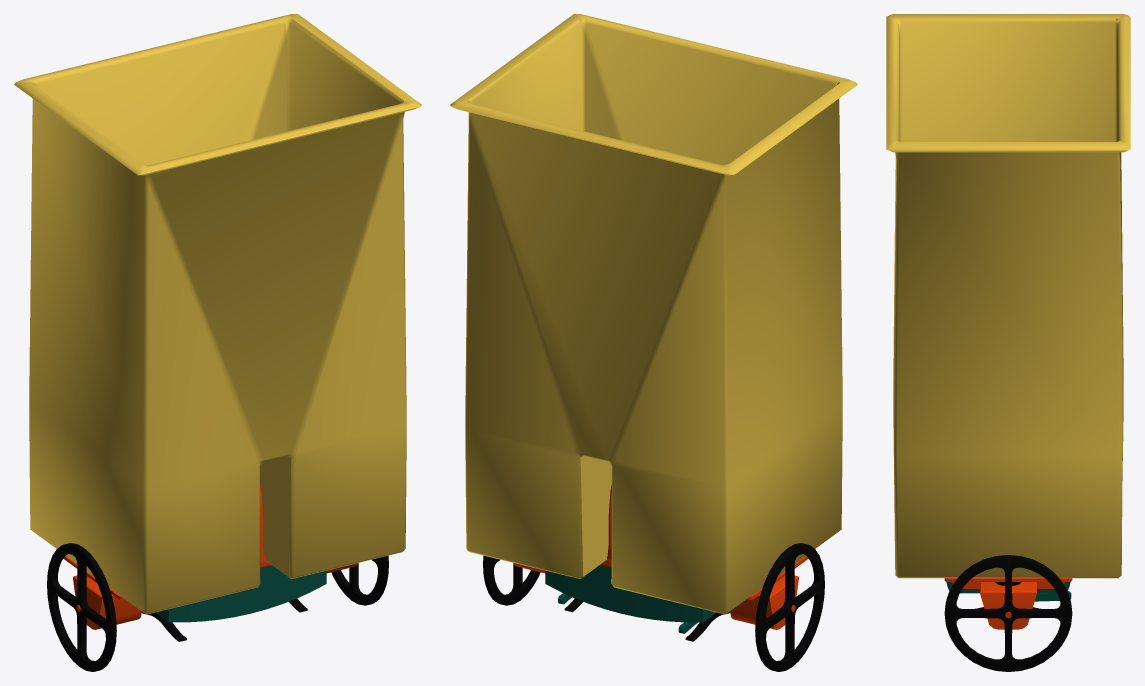
The model's file is Scooter-Accessorized.glb.
The picture shows the model from 3 angles, left to right: view 1: azimuth 30°, elevation 25°; view 2: azimuth 150°, elevation 25°; view 3: azimuth 270°, elevation 25°; orthographic projection. The views are drawn at different scales.
Parts seen in each view (by area): view 1: ScooterBin, Scooter_Wheels_LOD0, Scooter_LOD0.001, Scooter_LOD0; view 2: ScooterBin, Scooter_Wheels_LOD0, Scooter_LOD0.001, Scooter_LOD0; view 3: ScooterBin, Scooter_Wheels_LOD0, Scooter_LOD0, Scooter_LOD0.001.
Part boxes in pixels (<box>): ScooterBin: <box>14,14,421,614</box>; Scooter_Wheels_LOD0: <box>47,543,388,671</box>; Scooter_LOD0.001: <box>141,565,326,641</box>; Scooter_LOD0: <box>56,484,358,629</box>; ScooterBin: <box>450,14,857,614</box>; Scooter_Wheels_LOD0: <box>483,543,824,671</box>; Scooter_LOD0.001: <box>545,565,730,641</box>; Scooter_LOD0: <box>513,484,815,629</box>; ScooterBin: <box>886,14,1130,578</box>; Scooter_Wheels_LOD0: <box>944,555,1072,671</box>; Scooter_LOD0: <box>944,578,1072,629</box>; Scooter_LOD0.001: <box>946,581,1071,608</box>.
Bounding box in the file's own units: 0.5009 × 0.9096 × 0.3831.
